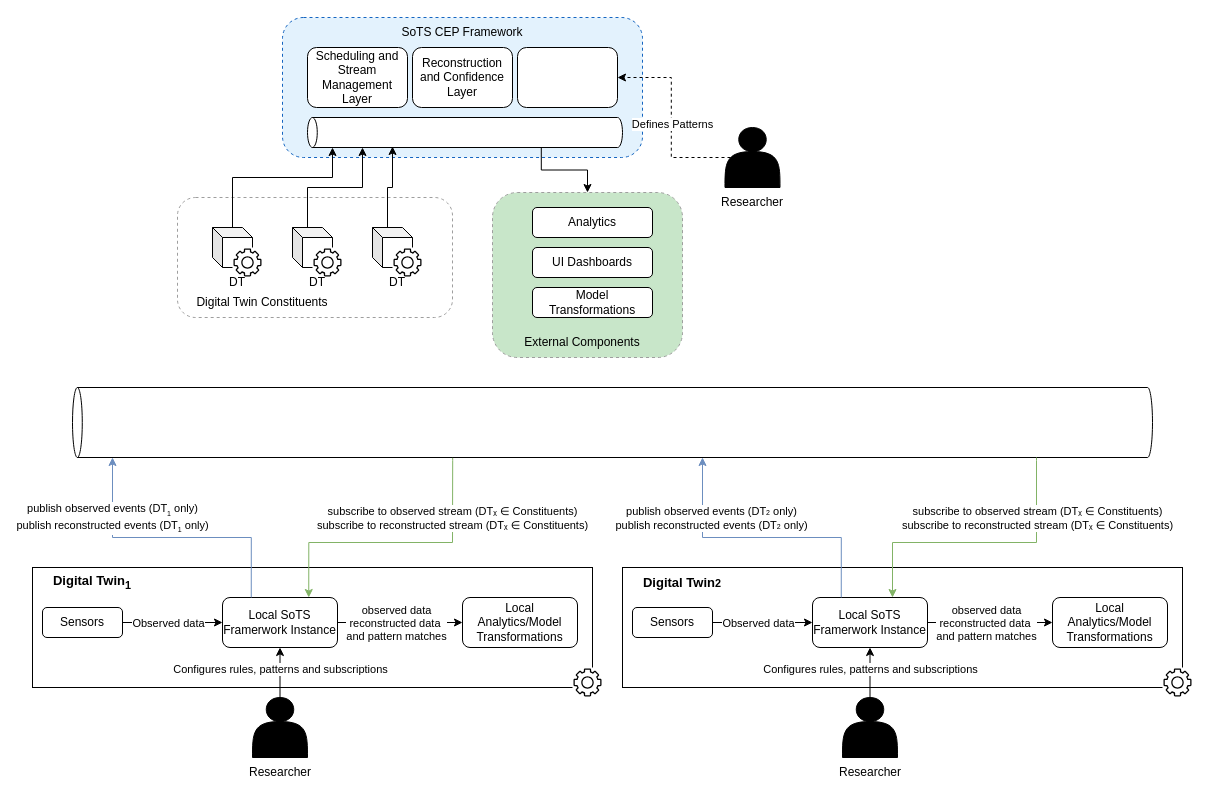
Image size: 1210x805. Some labels were removed from this diagram. The shapes that lost their labels are listed below. From the top down, each one's centre as x and y in pixels, then its label:
the point at 567,77: CEP and Event Reasoning Layer
the point at 464,132: Eventstream
the point at 612,422: Shared Eventstream Shared asynchronous communication layer
